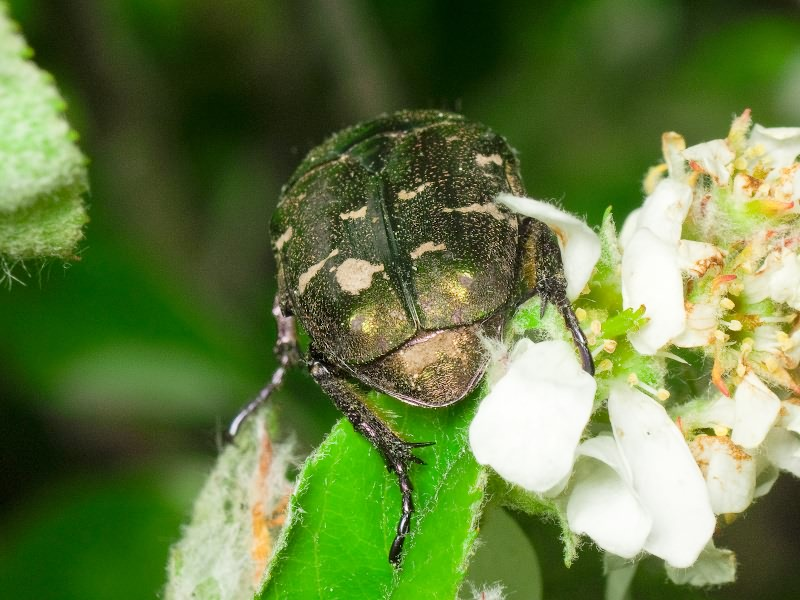Protaetia_metallica: (205, 90, 610, 572)
